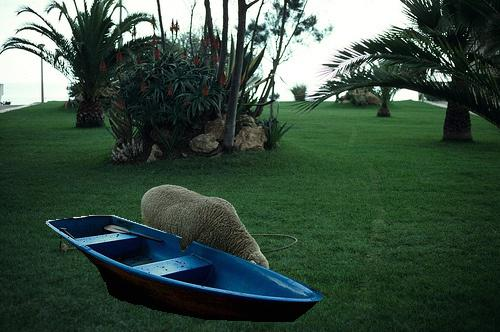tampered: (46, 216, 323, 322)
